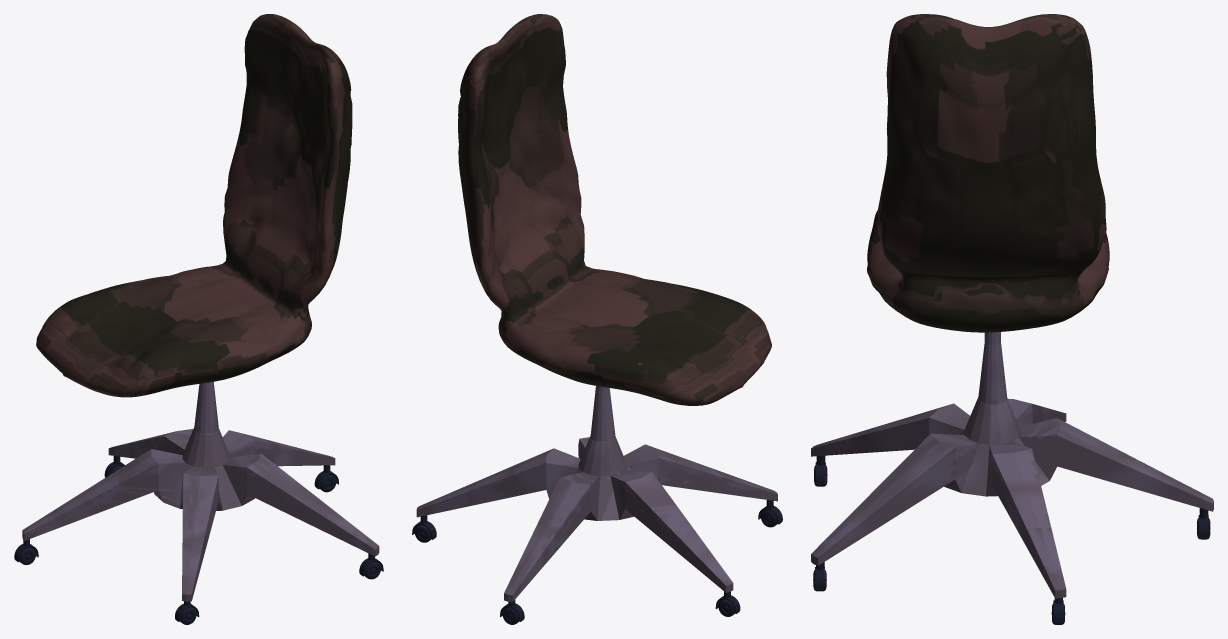
Rendered from chair.fbx.
3 renders of one model, left to right at view 1: azimuth 30°, elevation 25°; view 2: azimuth 150°, elevation 25°; view 3: azimuth 270°, elevation 25°, orthographic. The views are drawn at different scales.
Parts seen in each view (by area): view 1: Cylinder.004; view 2: Cylinder.004; view 3: Cylinder.004.
Part boxes in pixels (x1,y1,x2,y2): Cylinder.004: (14,14,383,624); Cylinder.004: (412,14,782,624); Cylinder.004: (811,14,1213,624).
Size of the model in its own units: 699 by 1025 by 646.
Materials: 1 (1 with a texture image).
